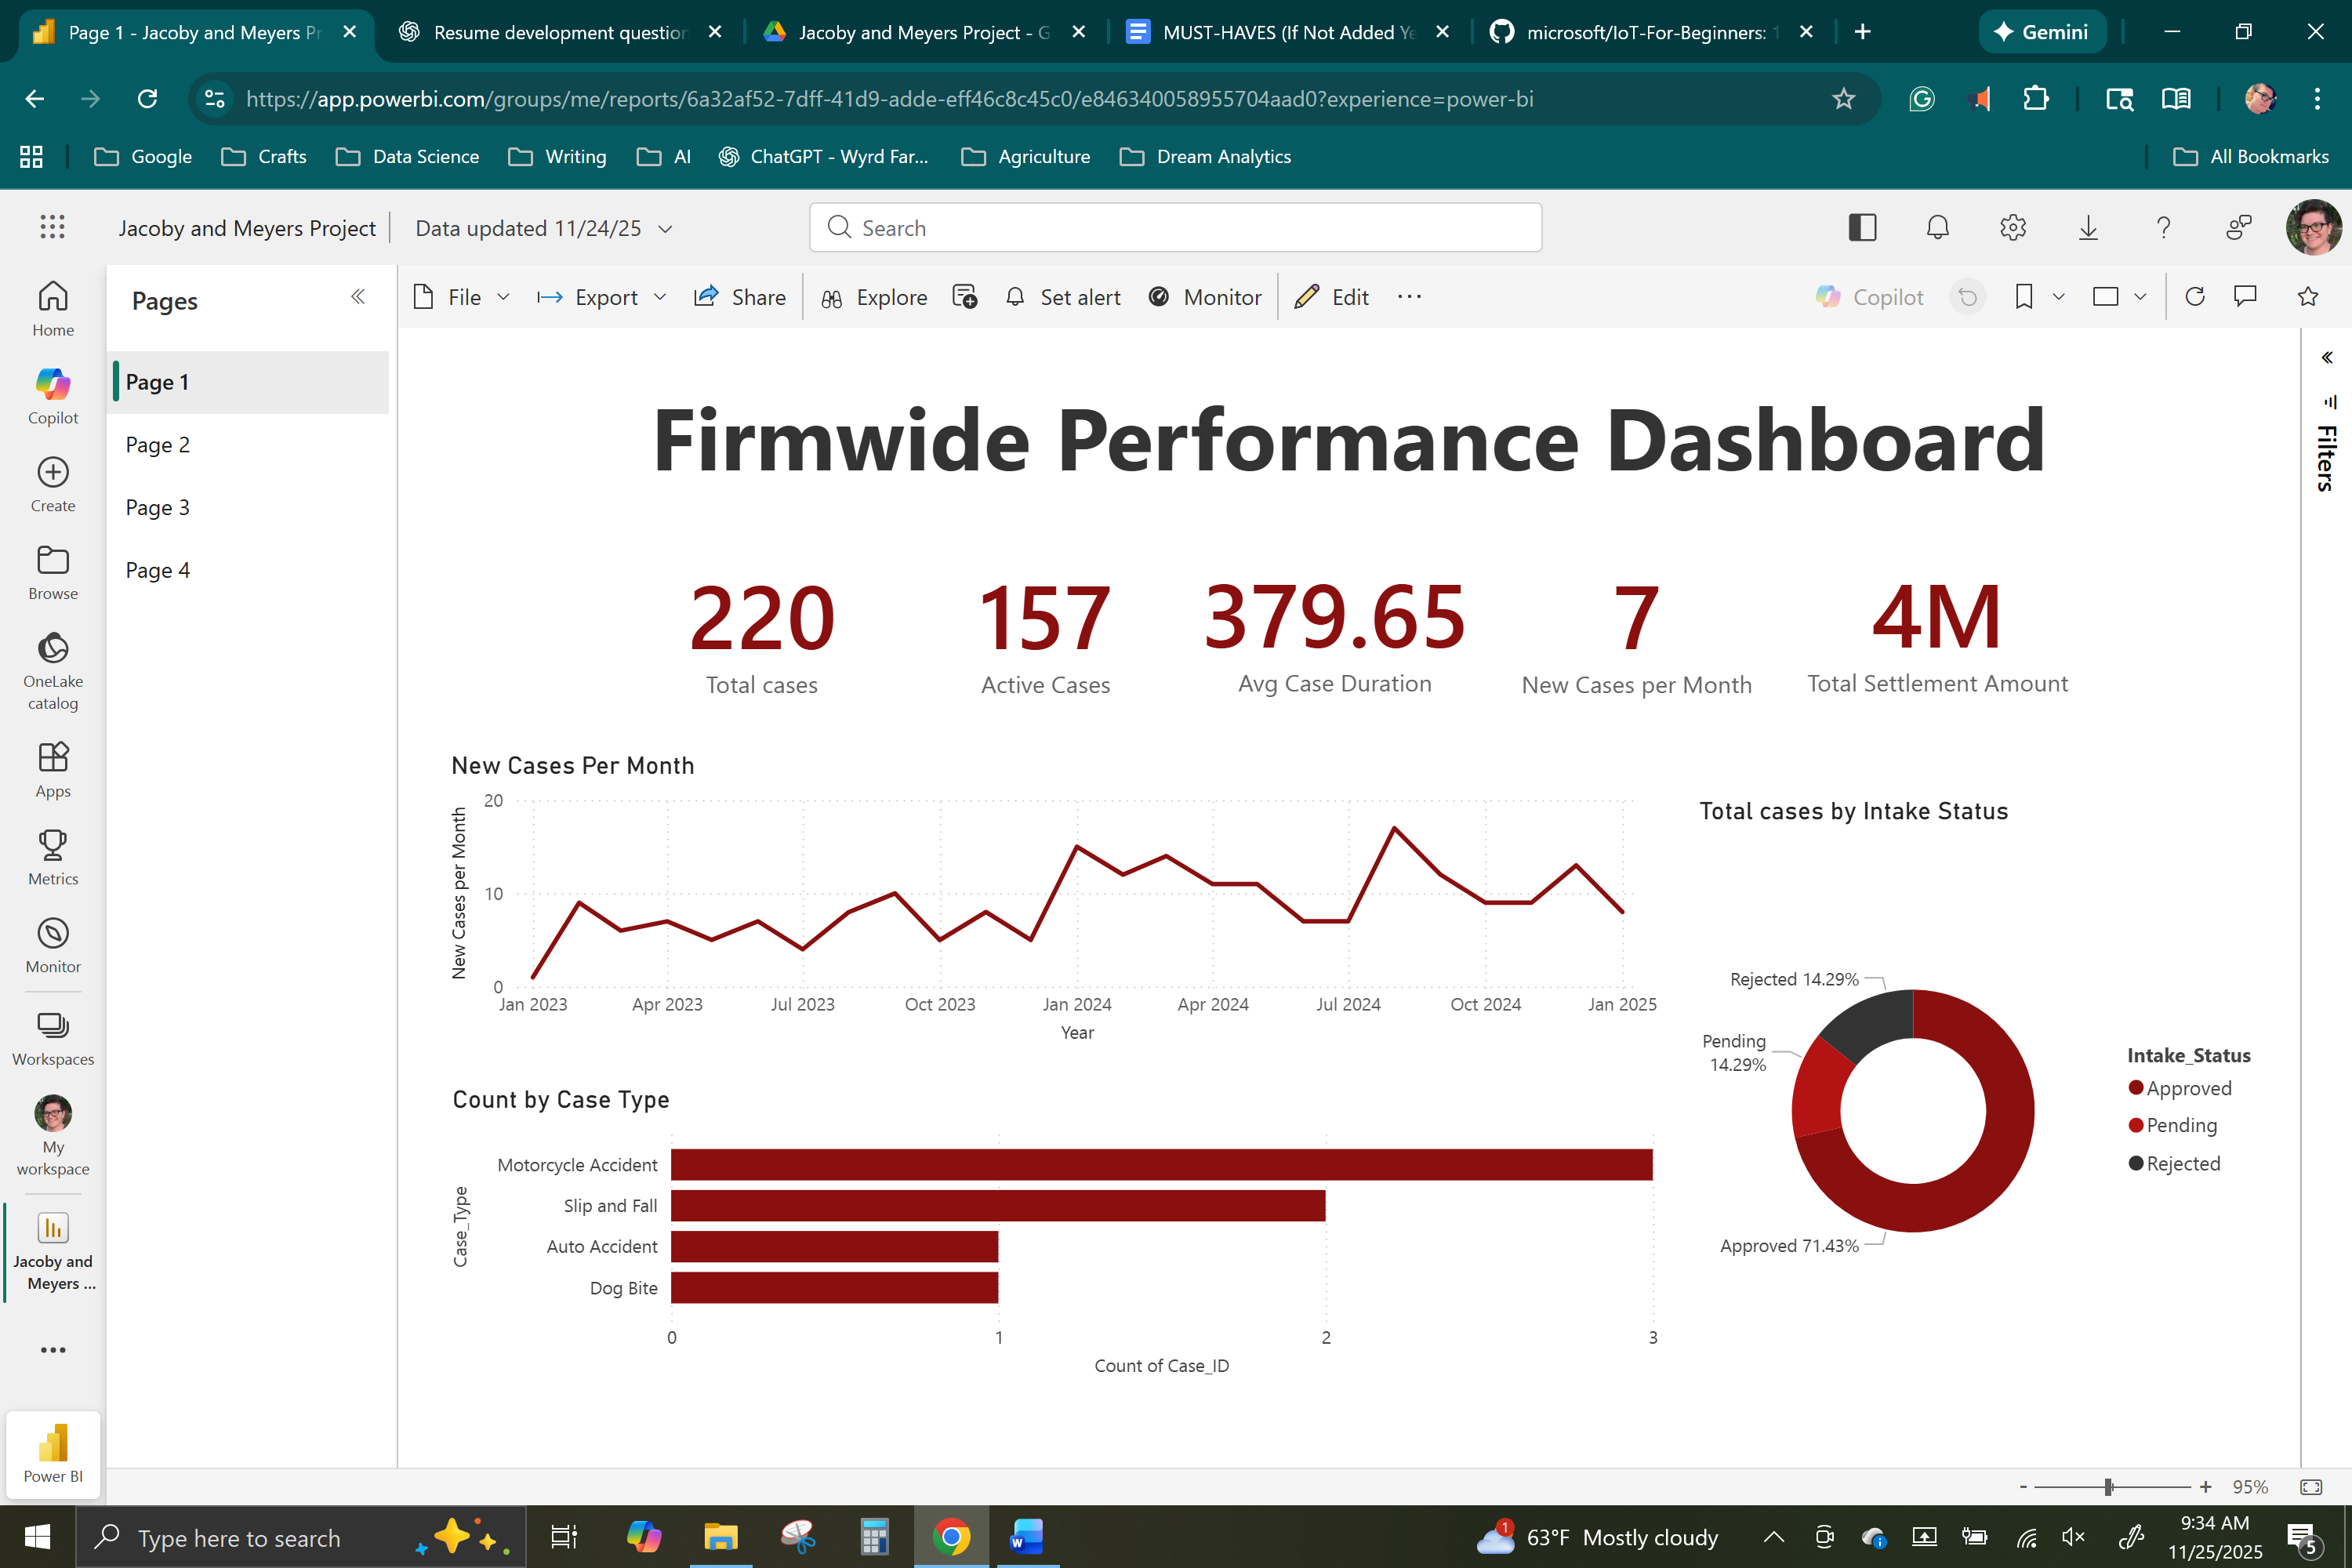

The dashboard page shown, as its layout file describes it:
{"tool":"powerbi","page":{"name":"Page 1","canvas":[1280,720],"ordinal":0},"visuals":[{"type":"textbox","box":[0,27.7,1280,119.1],"z":0},{"type":"slicer","fields":{"Values":["cases.Date_Filed"]},"box":[898.6,146.8,30.1,34.9],"z":1000},{"type":"card","fields":{"Values":["cases.Total cases"]},"box":[149.8,136.4,190,130],"z":2000},{"type":"card","fields":{"Values":["cases.Active Cases"]},"box":[340.5,135.9,190.1,129.9],"z":3000},{"type":"card","fields":{"Values":["cases.Avg Case Duration"]},"box":[530.5,134.7,199.7,129.9],"z":4000},{"type":"card","fields":{"Values":["cases.New Cases per Month"]},"box":[738.6,135.9,190.1,129.9],"z":5000},{"type":"card","fields":{"Values":["settlements.Total Settlement Amount"]},"box":[940.8,134.7,190.1,129.9],"z":6000},{"type":"lineChart","title":"New Cases Per Month","fields":{"Y":["cases.New Cases this Month"],"Category":["cases.Date_Filed.Variation.Date Hierarchy.Year","cases.Date_Filed.Variation.Date Hierarchy.Quarter","cases.Date_Filed.Variation.Date Hierarchy.Month","cases.Date_Filed.Variation.Date Hierarchy.Day"]},"box":[31.1,284.9,822.2,201.5],"z":7000},{"type":"barChart","title":"Count by Case Type","fields":{"Category":["intake.Case_Type"],"Y":["CountNonNull(cases.Case_ID)"]},"box":[31.3,510.1,821.7,200.9],"z":8000},{"type":"donutChart","title":"Total cases by Intake Status","fields":{"Y":["cases.Total cases"],"Category":["intake.Intake_Status"]},"box":[870.7,316,398.1,404.3],"z":9000}]}

Visuals, with their boxes on the page's 1280x720 design canvas (x1, y1, x2, y2). These are canvas units, not pixel positions in the 2352x1568 screenshot, which may show the page scaled, cropped or inside an application window:
textbox: [x1=0, y1=28, x2=1280, y2=147]
slicer - cases.Date_Filed: [x1=899, y1=147, x2=929, y2=182]
card - cases.Total cases: [x1=150, y1=136, x2=340, y2=266]
card - cases.Active Cases: [x1=340, y1=136, x2=531, y2=266]
card - cases.Avg Case Duration: [x1=530, y1=135, x2=730, y2=265]
card - cases.New Cases per Month: [x1=739, y1=136, x2=929, y2=266]
card - settlements.Total Settlement Amount: [x1=941, y1=135, x2=1131, y2=265]
"New Cases Per Month" lineChart: [x1=31, y1=285, x2=853, y2=486]
"Count by Case Type" barChart: [x1=31, y1=510, x2=853, y2=711]
"Total cases by Intake Status" donutChart: [x1=871, y1=316, x2=1269, y2=720]
